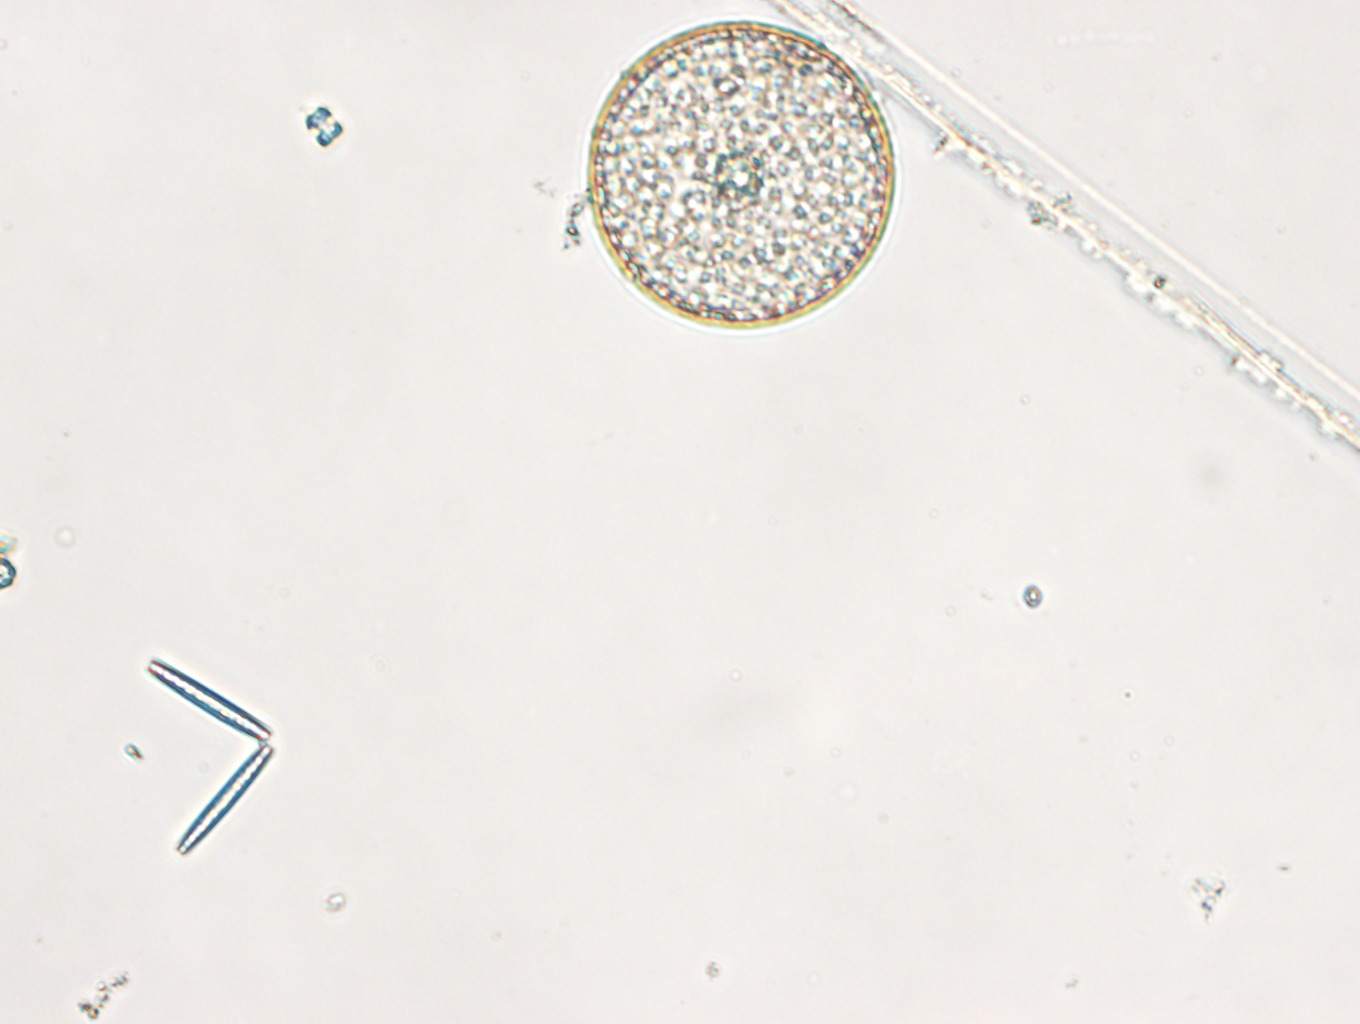coscinodiscus: (586, 16, 896, 330)
thalassionema nitzschioides: (146, 660, 272, 856)
